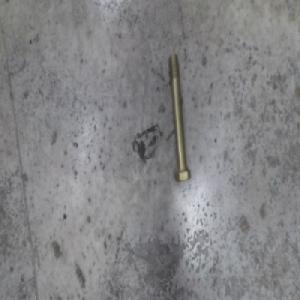Bolt: (166, 50, 191, 177)
